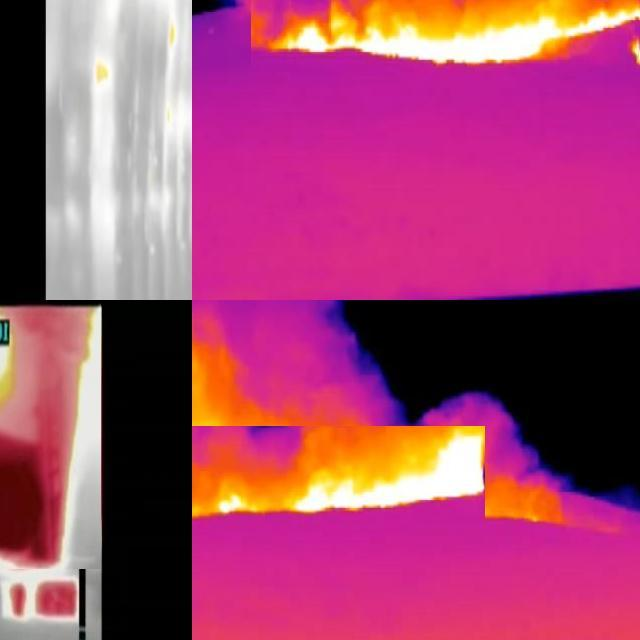fire: (193, 427, 486, 531), (252, 1, 640, 73), (1, 302, 102, 570)
